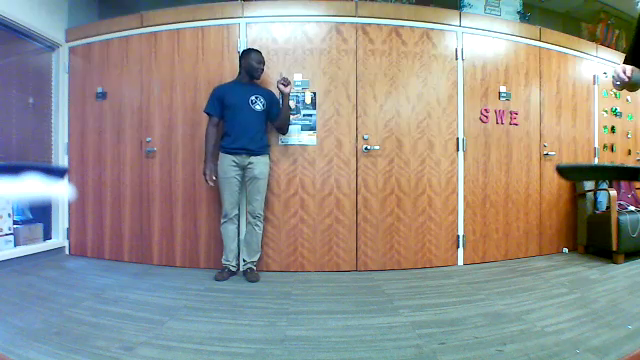up: (272, 69, 293, 96)
